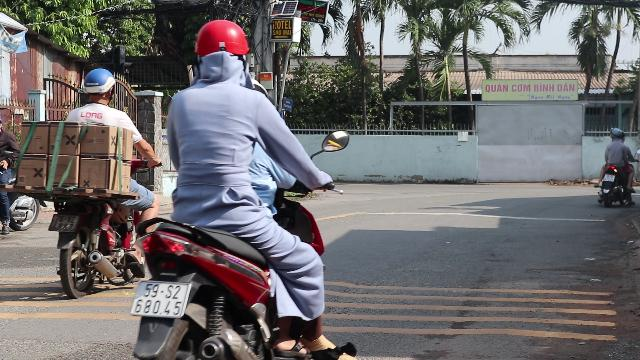helmet: (189, 19, 249, 83), (80, 67, 116, 105)
licenseplate: (130, 282, 192, 316), (50, 214, 78, 234)
motorcyclist: (117, 15, 340, 354), (45, 67, 161, 297)
